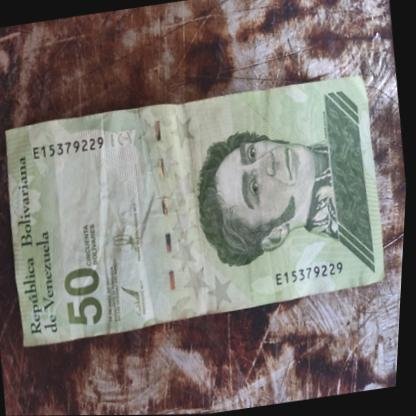fifty-front-vef: (0, 73, 398, 348)
